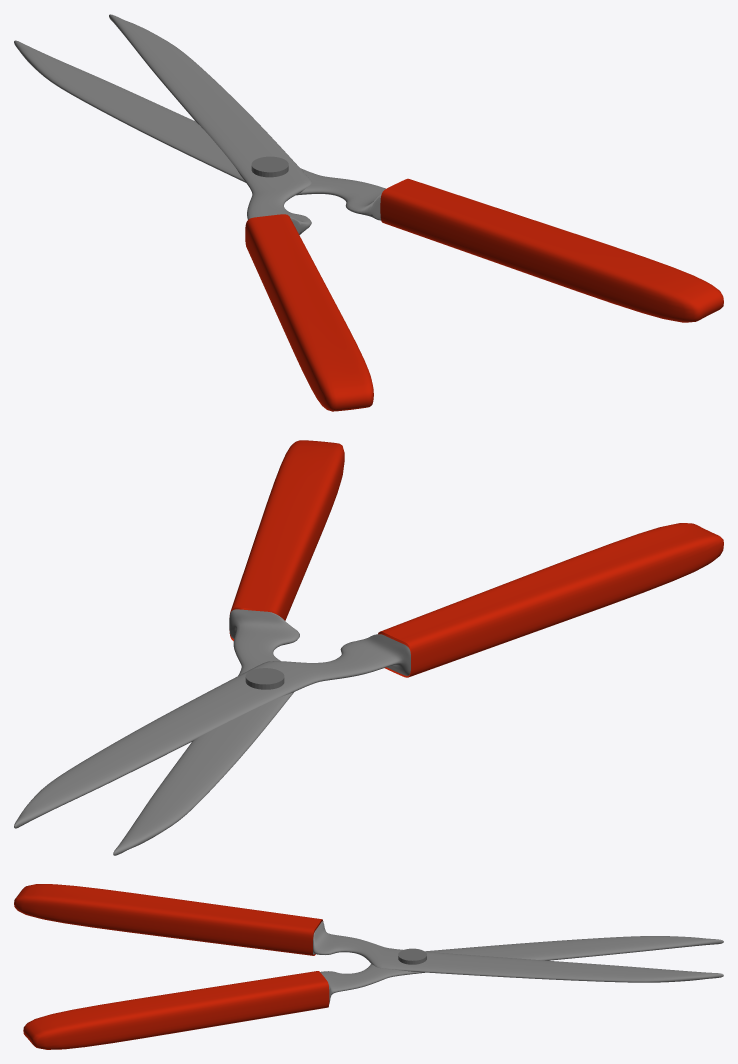
Rendered from tijera.fbx.
The picture shows the model from 3 angles, top to bottom: view 1: azimuth 30°, elevation 25°; view 2: azimuth 150°, elevation 25°; view 3: azimuth 270°, elevation 25°; orthographic projection. The views are drawn at different scales.
Parts seen in each view (by area): view 1: Plano.003, Plano.004, Cilindro; view 2: Plano.004, Plano.003, Cilindro; view 3: Plano.004, Plano.003, Cilindro.
Boxes of the visible parts, x1,y1,x2,y2 form: Plano.003: [14, 40, 723, 322]; Plano.004: [109, 14, 373, 411]; Cilindro: [251, 156, 288, 177]; Plano.004: [14, 523, 723, 828]; Plano.003: [113, 440, 344, 855]; Cilindro: [245, 668, 284, 689]; Plano.004: [14, 884, 723, 982]; Plano.003: [23, 936, 723, 1049]; Cilindro: [398, 948, 426, 964].
Bounding box in the file's own units: 372 × 32.12 × 734.
